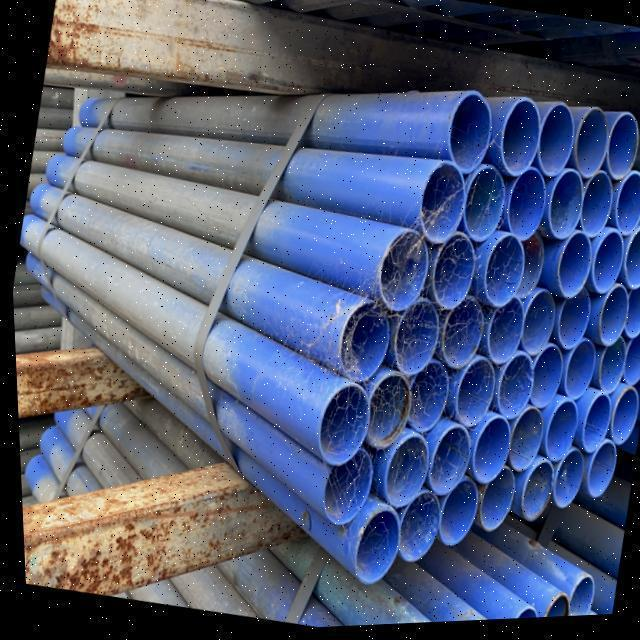pipe: (312, 383, 366, 471), (374, 235, 430, 319), (316, 451, 371, 530), (495, 102, 544, 184), (418, 168, 468, 248), (394, 487, 441, 571), (390, 302, 439, 382), (374, 438, 427, 511), (446, 96, 490, 183), (458, 170, 507, 247), (497, 173, 545, 250), (335, 308, 385, 380), (430, 235, 476, 313), (363, 376, 410, 452), (347, 514, 395, 587), (434, 474, 477, 555), (480, 233, 525, 309), (438, 302, 483, 378), (401, 362, 446, 437), (424, 430, 470, 501), (450, 363, 495, 433), (548, 283, 590, 357), (591, 270, 628, 354), (467, 419, 510, 490), (537, 108, 576, 186), (470, 467, 511, 539), (482, 301, 524, 370), (490, 358, 532, 426), (551, 235, 592, 303), (576, 175, 615, 246), (546, 175, 583, 246), (602, 119, 639, 187), (575, 112, 610, 183), (538, 403, 578, 465), (506, 412, 540, 483), (517, 293, 553, 360), (512, 463, 551, 524), (546, 454, 582, 516), (572, 400, 608, 461), (607, 177, 640, 242), (591, 236, 625, 299), (558, 342, 594, 401), (527, 350, 559, 416), (605, 386, 636, 452), (579, 446, 611, 504), (593, 341, 626, 396), (519, 236, 542, 299), (561, 578, 591, 621), (620, 289, 640, 347), (623, 234, 640, 294), (621, 343, 640, 388), (537, 599, 565, 622)
